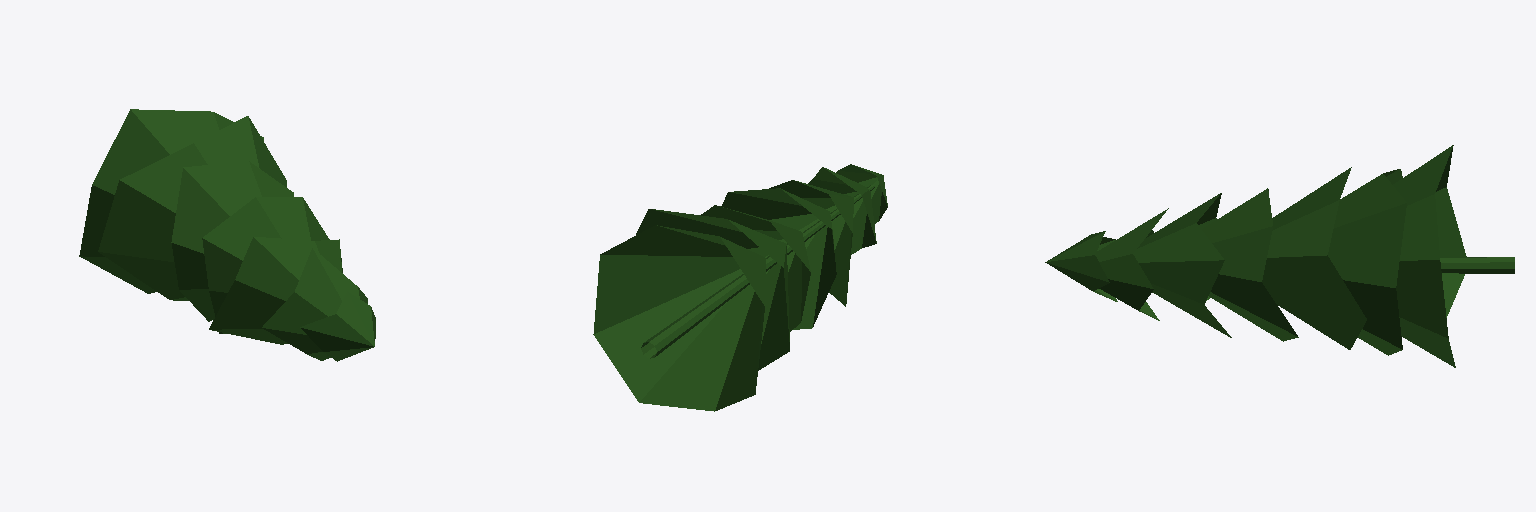
Rendered from saplin4.obj.
The picture shows the model from 3 angles: view 1: azimuth 30°, elevation 25°; view 2: azimuth 150°, elevation 25°; view 3: azimuth 270°, elevation 25°; orthographic projection.
Visible parts, largest first — view 1: Saplin4; view 2: Saplin4; view 3: Saplin4.
Boxes of the visible parts, <box> form: Saplin4: <box>79,109,375,361</box>; Saplin4: <box>593,164,887,411</box>; Saplin4: <box>1045,145,1514,367</box>.
Bounding box in the file's own units: 2.87 × 2.81 × 6.47.